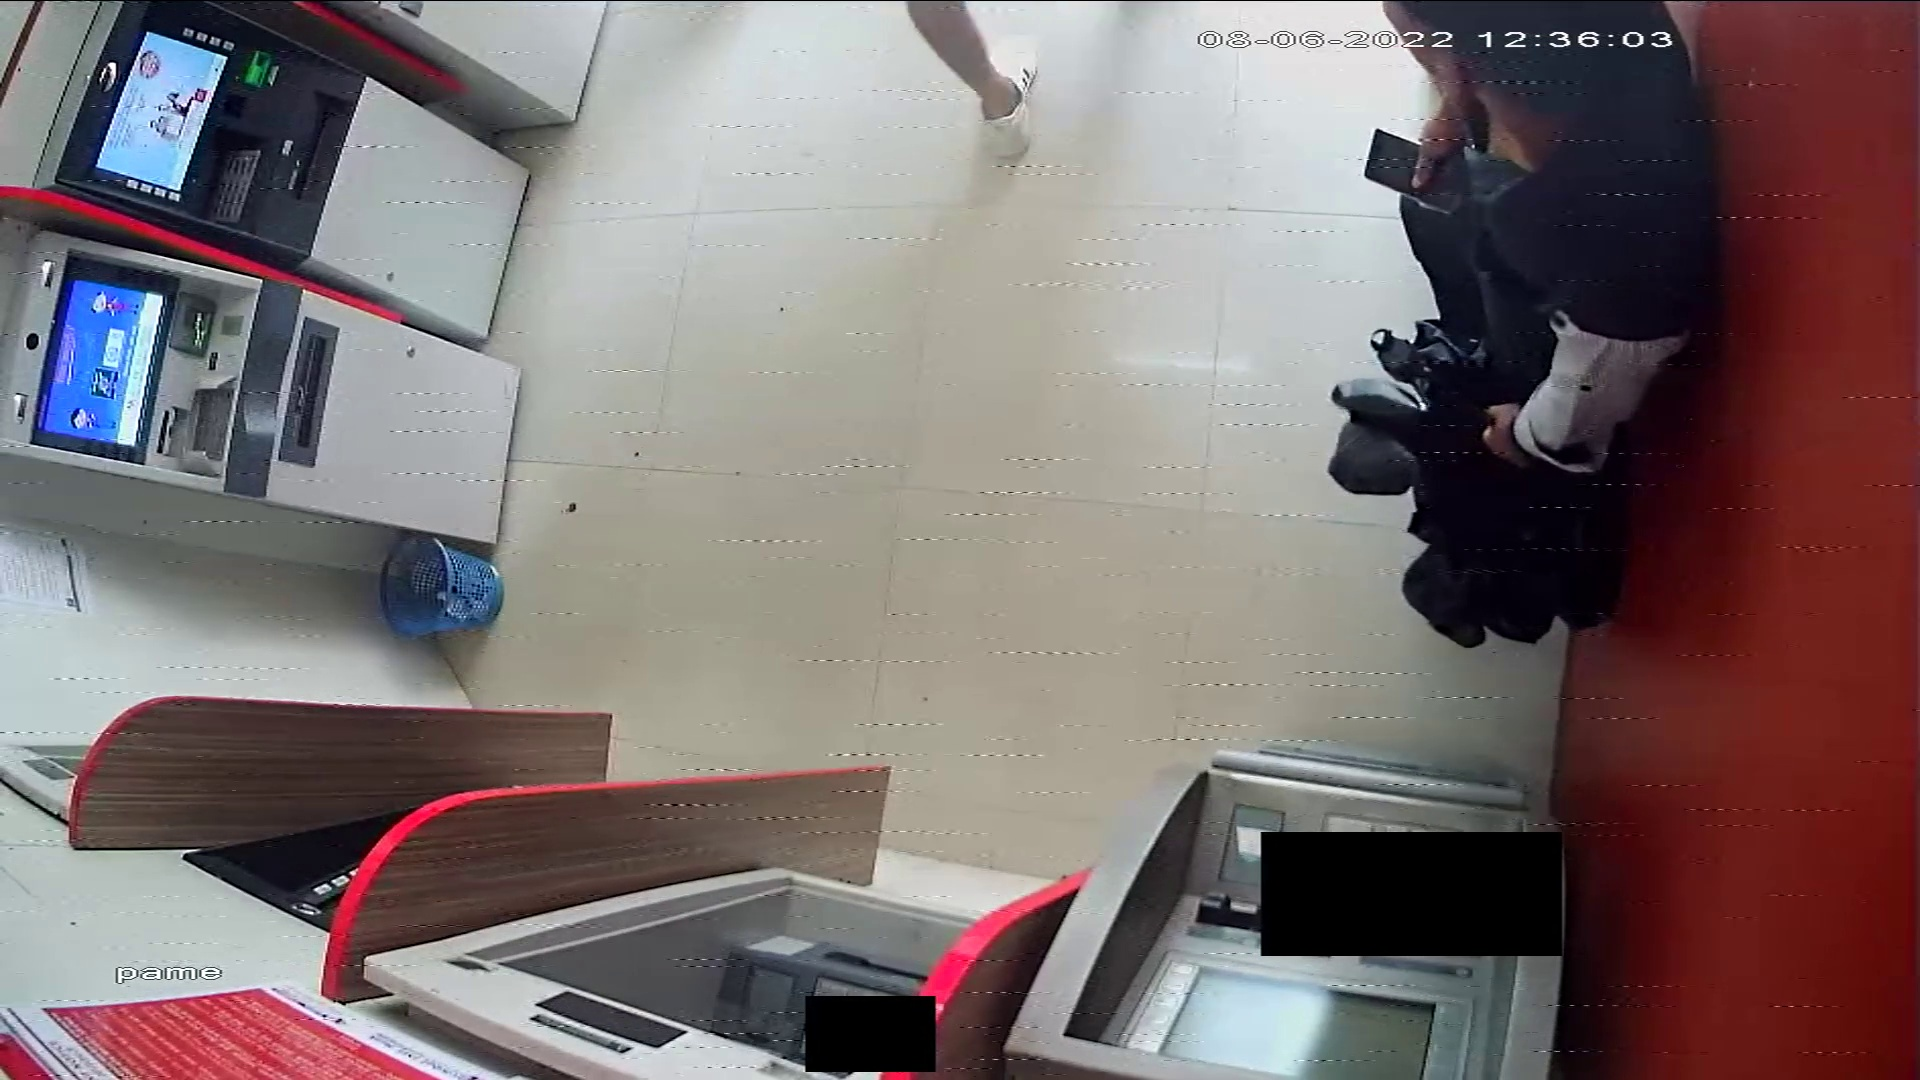person: (1381, 2, 1719, 460)
phone: (1359, 123, 1456, 210)
